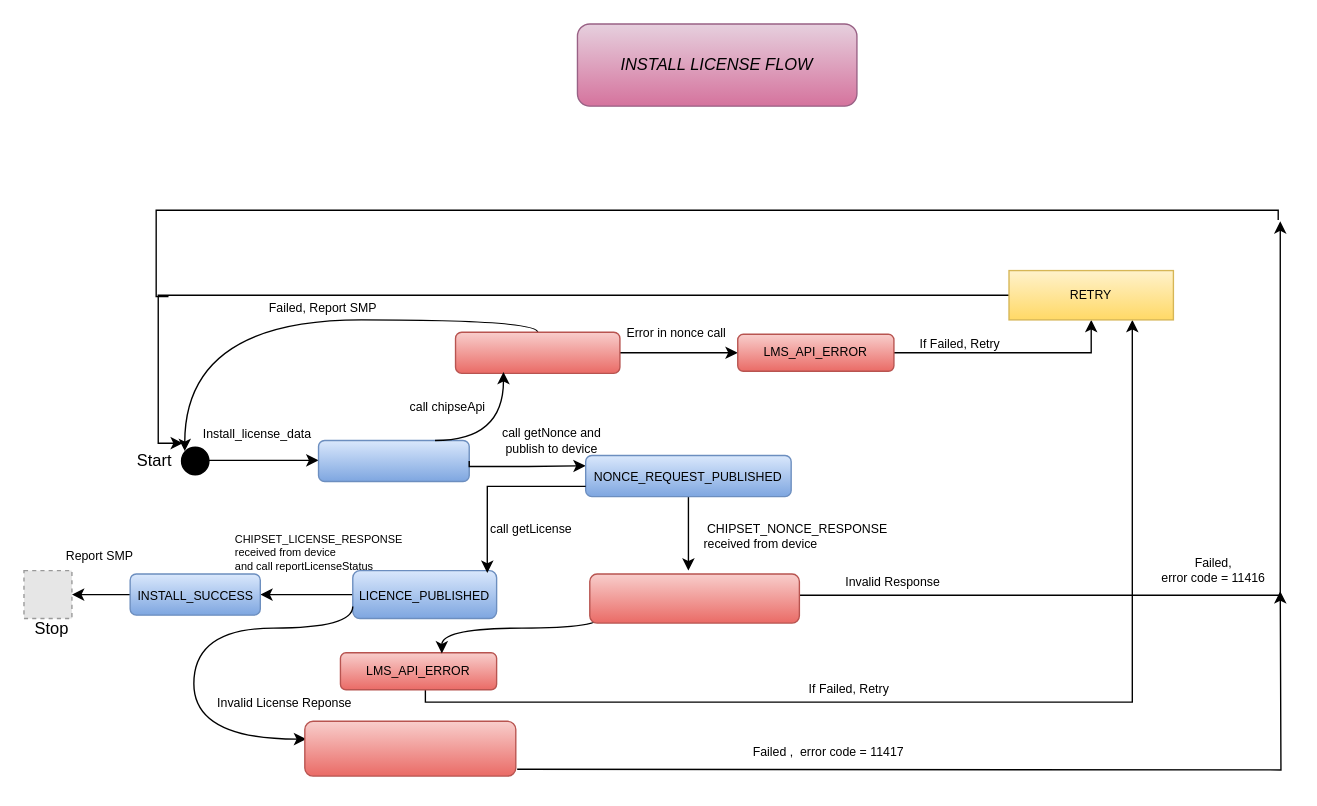
This 1317x806 diagram has some shape labels left out. Grey dashed boxes stand in for pictures. Here are the shapes that lost their labels. From the top down, the centre of each, then its label:
[537,352]: CHIPSET_API_ERROR
[393,460]: REQUEST_RECEIVED
[693,598]: INVALID_NONCE_RESPONSE _FROM_DEVICE
[409,748]: INVALID_LICENSE_RESPONSE _FROM_DEVICE
